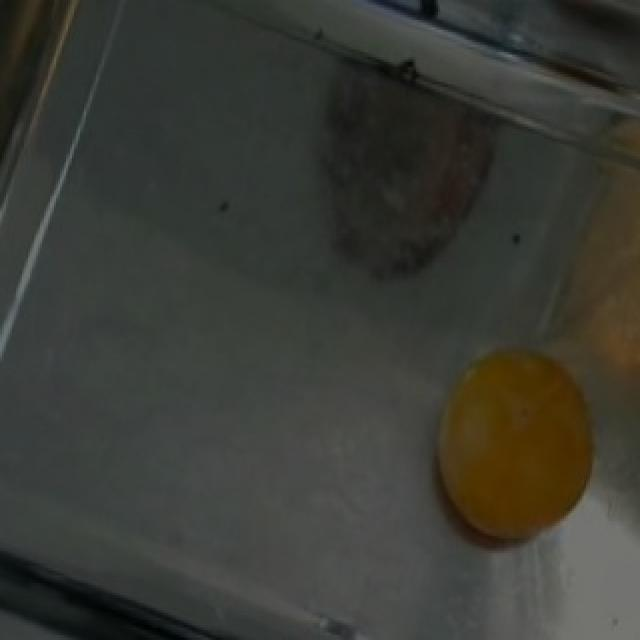Fruit: (414, 328, 622, 563)
